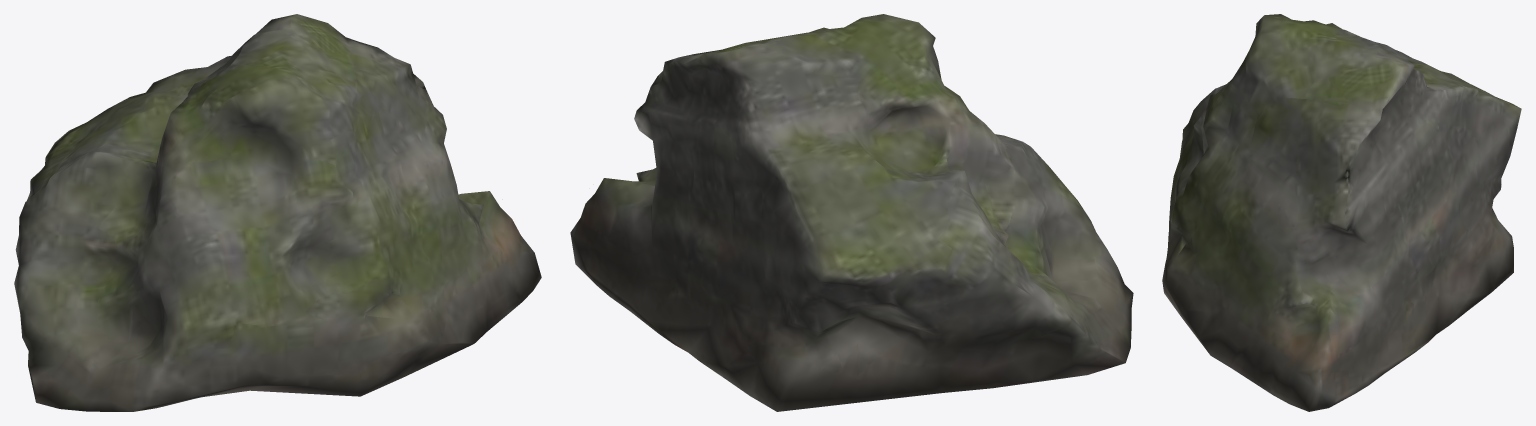
File: kamen_maly_2.glb
The picture shows the model from 3 angles, left to right: view 1: azimuth 30°, elevation 25°; view 2: azimuth 150°, elevation 25°; view 3: azimuth 270°, elevation 25°; orthographic projection. The views are drawn at different scales.
Parts seen in each view (by area): view 1: kamen_maly_2; view 2: kamen_maly_2; view 3: kamen_maly_2.
Part boxes in pixels (left/top/right/bottom): kamen_maly_2: left=14, top=14, right=541, bottom=411; kamen_maly_2: left=570, top=14, right=1133, bottom=411; kamen_maly_2: left=1162, top=14, right=1521, bottom=411.
Size of the model in its own units: 0.2509 by 0.1333 by 0.1621.
Materials: 1 (1 with a texture image).
